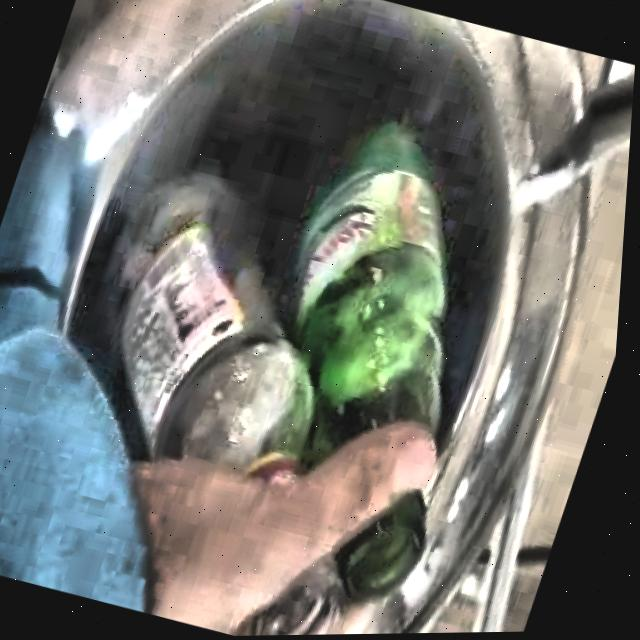glass: (120, 138, 450, 475), (262, 496, 431, 637)
